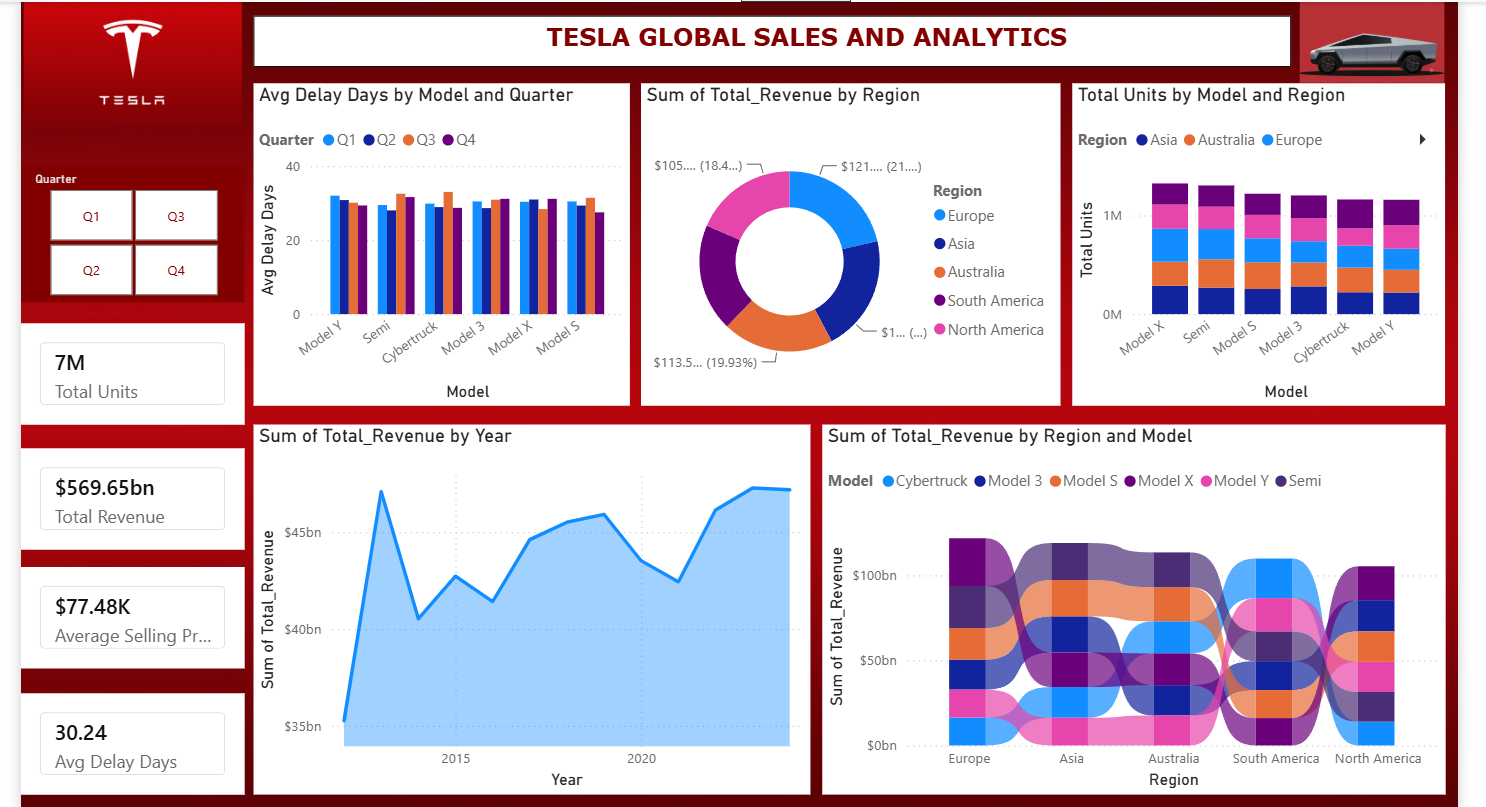

What the dashboard file says about the page in this screenshot:
{"tool":"powerbi","page":{"name":"Page 1","canvas":[1280,720],"ordinal":0},"visuals":[{"type":"cardVisual","fields":{"Data":["tesla_vehicle_deliveries.Total Revenue"]},"box":[0,397.4,199.1,90.5],"z":0},{"type":"cardVisual","fields":{"Data":["tesla_vehicle_deliveries.Total Units"]},"box":[0,286.1,199.1,90.5],"z":1000},{"type":"cardVisual","fields":{"Data":["tesla_vehicle_deliveries.Average Selling Price"]},"box":[0,503.2,199.1,90.5],"z":2000},{"type":"cardVisual","fields":{"Data":["tesla_vehicle_deliveries.Avg Delay Days"]},"box":[0,615.6,199.1,90.5],"z":3000},{"type":"donutChart","fields":{"Category":["tesla_vehicle_deliveries.Region"],"Y":["Sum(tesla_vehicle_deliveries.Total_Revenue)"]},"box":[552.5,72.4,374,287.1],"z":4000},{"type":"lineChart","fields":{"Y":["Sum(tesla_vehicle_deliveries.Total_Revenue)"],"Category":["tesla_vehicle_deliveries.Year"]},"box":[207.5,376.4,495.8,329.4],"z":5000},{"type":"columnChart","fields":{"Category":["tesla_vehicle_deliveries.Model"],"Y":["tesla_vehicle_deliveries.Total Units"],"Series":["tesla_vehicle_deliveries.Region"]},"box":[936.2,72.4,331.8,287.1],"z":6000},{"type":"clusteredColumnChart","fields":{"Category":["tesla_vehicle_deliveries.Model"],"Y":["tesla_vehicle_deliveries.Avg Delay Days"],"Series":["tesla_vehicle_deliveries.Quarter"]},"box":[207.5,72.4,335.4,287.1],"z":7000},{"type":"slicer","fields":{"Values":["tesla_vehicle_deliveries.Quarter"]},"box":[0,145.8,199.1,121.9],"z":8000},{"type":"image","box":[0,0,199.1,109.8],"z":9000},{"type":"ribbonChart","fields":{"Category":["tesla_vehicle_deliveries.Region"],"Series":["tesla_vehicle_deliveries.Model"],"Y":["Sum(tesla_vehicle_deliveries.Total_Revenue)"]},"box":[713,376.4,555,329.4],"z":10000},{"type":"textbox","box":[207.1,12.2,923.9,45.6],"z":11000},{"type":"image","box":[1138.9,0,129.1,72.4],"z":12000}]}

Visuals, with their boxes in screenshot pixels (x1, y1, x2, y2):
cardVisual - tesla_vehicle_deliveries.Total Revenue: (27,444,248,544)
cardVisual - tesla_vehicle_deliveries.Total Units: (27,321,248,421)
cardVisual - tesla_vehicle_deliveries.Average Selling Price: (27,561,248,662)
cardVisual - tesla_vehicle_deliveries.Avg Delay Days: (27,686,248,786)
donutChart - tesla_vehicle_deliveries.Region x Sum(tesla_vehicle_deliveries.Total_Revenue): (639,84,1053,402)
lineChart - Sum(tesla_vehicle_deliveries.Total_Revenue) x tesla_vehicle_deliveries.Year: (257,421,806,786)
columnChart - tesla_vehicle_deliveries.Model x tesla_vehicle_deliveries.Total Units: (1064,84,1432,402)
clusteredColumnChart - tesla_vehicle_deliveries.Model x tesla_vehicle_deliveries.Avg Delay Days: (257,84,629,402)
slicer - tesla_vehicle_deliveries.Quarter: (27,165,248,300)
image: (27,4,248,126)
ribbonChart - tesla_vehicle_deliveries.Region x tesla_vehicle_deliveries.Model: (817,421,1432,786)
textbox: (257,17,1280,68)
image: (1289,4,1432,84)
